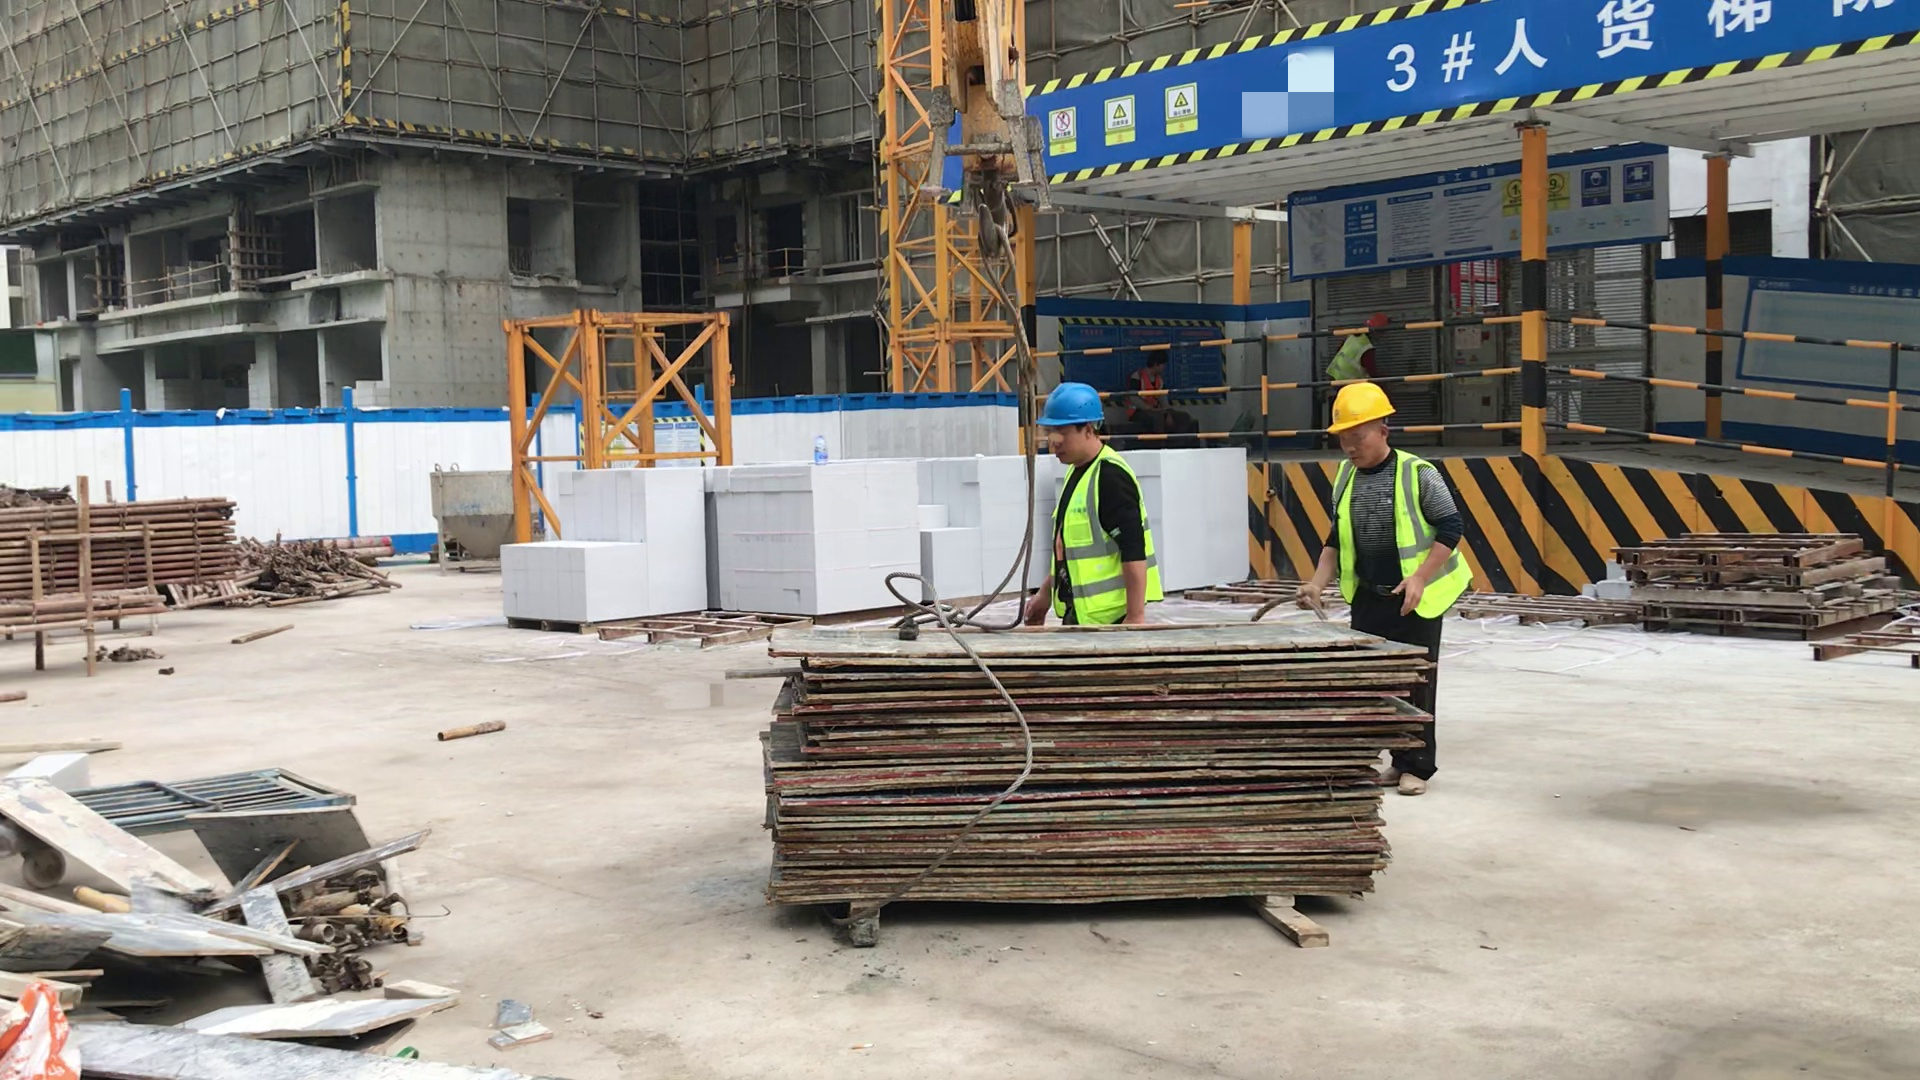board: (768, 620, 1414, 943)
brick: (501, 455, 1053, 635), (1144, 447, 1256, 582)
handcart: (12, 761, 360, 854)
helmet: (1324, 383, 1392, 436), (1036, 383, 1113, 426), (1365, 313, 1389, 335)
hook: (945, 1, 1035, 262)
hopper: (420, 464, 534, 566)
person: (1319, 384, 1471, 783), (1033, 382, 1163, 628), (1124, 348, 1201, 436), (1328, 313, 1393, 383)
scaffold: (1, 492, 240, 616)
slogan: (1374, 1, 1872, 102), (1049, 71, 1204, 165)
vest: (1327, 459, 1469, 617), (1052, 460, 1164, 620), (1329, 332, 1376, 381), (1127, 370, 1165, 413)
